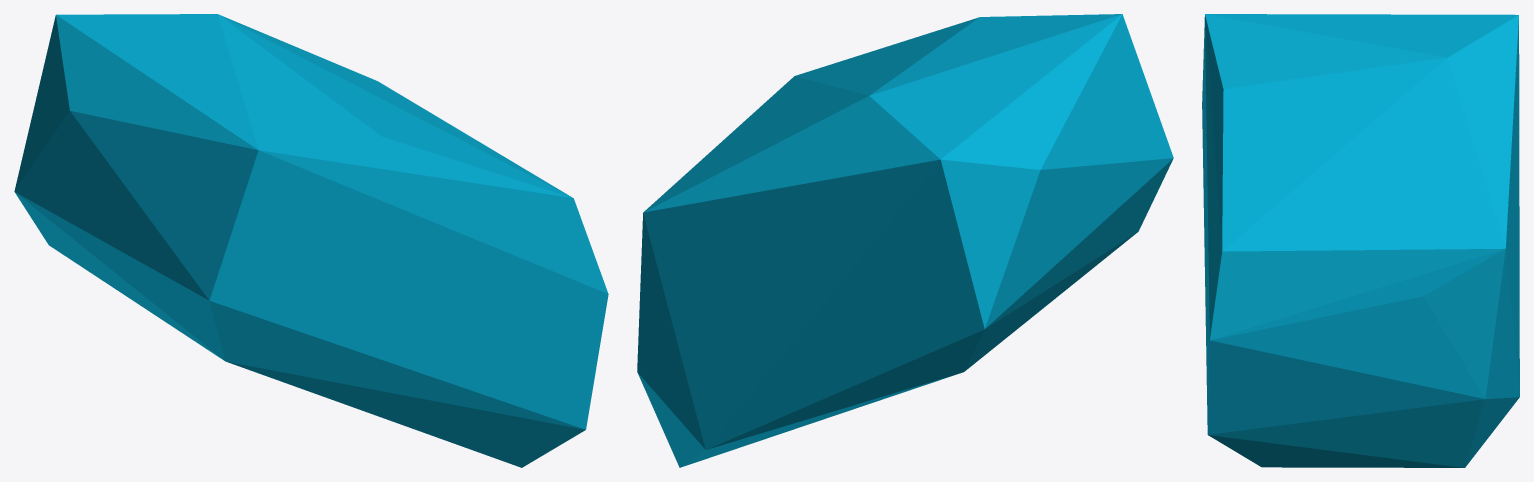
Rendered from camera_convex_piece_006.obj.
The picture shows the model from 3 angles, left to right: view 1: azimuth 30°, elevation 25°; view 2: azimuth 150°, elevation 25°; view 3: azimuth 270°, elevation 25°; orthographic projection. The views are drawn at different scales.
Size of the model in its own units: 0.018 by 0.0178 by 0.0152.
